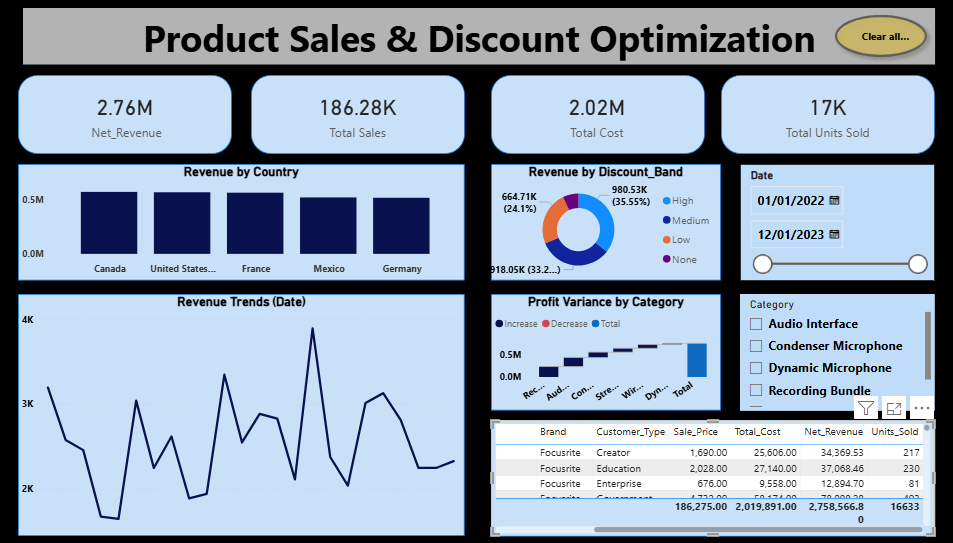

Layout of this report page (visuals, bound fields, positions):
{"tool":"powerbi","page":{"name":"Page 1","canvas":[1280,720],"ordinal":0},"visuals":[{"type":"shape","box":[33.3,105,280,103.3],"z":0},{"type":"shape","box":[338.3,105,280,103.3],"z":1000},{"type":"shape","box":[651.7,105,280,103.3],"z":2000},{"type":"shape","box":[953.3,105,280,103.3],"z":3000},{"type":"shape","box":[33.1,221.8,584.6,152.6],"z":4000},{"type":"shape","box":[33.1,391.7,584.6,316.8],"z":5000},{"type":"shape","box":[652.3,221.8,301,152.6],"z":6000},{"type":"shape","box":[652.3,555.8,581.8,152.6],"z":7000},{"type":"shape","box":[652.3,391.7,301,152.6],"z":8000},{"type":"textbox","box":[38.6,16.8,1194.3,73.9],"z":9000},{"type":"card","fields":{"Values":["Sum(Product.Net_Revenue)"]},"box":[60.5,109.2,225.1,94.1],"z":10000},{"type":"card","fields":{"Values":["Sum(Product.Sale_Price)"]},"box":[357.8,109.2,240.2,94.1],"z":11000},{"type":"card","fields":{"Values":["Sum(Product.Total_Cost)"]},"box":[675.3,109.2,230.1,94.1],"z":12000},{"type":"card","fields":{"Values":["Sum(Product.Units_Sold)"]},"box":[977.6,109.2,230.1,94.1],"z":13000},{"type":"columnChart","title":"Revenue by Country","fields":{"Y":["Sum(Product.Net_Revenue)"],"Category":["Product.Country"]},"box":[33.1,221.8,584.6,152.6],"z":14000},{"type":"lineChart","title":"Revenue Trends (Date)","fields":{"Category":["Product.Month","Product.Date.Variation.Date Hierarchy.Year","Product.Date.Variation.Date Hierarchy.Month","Product.Date.Variation.Date Hierarchy.Day"],"Y":["Median(Product.Net_Revenue)"]},"box":[33.1,391.7,584.6,316.8],"z":15000},{"type":"donutChart","fields":{"Category":["Product.Discount_Band"],"Y":["Sum(Product.Net_Revenue)"]},"box":[652.3,221.8,301,152.6],"z":16000},{"type":"tableEx","fields":{"Values":["Product.Country","Product.Category","Product.Brand","Product.Customer_Type","Sum(Product.Sale_Price)","Sum(Product.Total_Cost)","Sum(Product.Net_Revenue)","Sum(Product.Units_Sold)"]},"box":[652.3,555.8,580.3,152.6],"z":17000},{"type":"waterfallChart","title":"Profit Variance by Category","fields":{"Category":["Product.Category"],"Y":["Product.Total Profit"]},"box":[652.3,391.7,301,152.6],"z":18000},{"type":"slicer","fields":{"Values":["Product.Date"]},"box":[977.8,221.8,254.9,152.6],"z":19000},{"type":"slicer","fields":{"Values":["Product.Category"]},"box":[977.8,391.7,254.9,152.6],"z":20000},{"type":"actionButton","box":[1093.1,17,138.8,73.3],"z":21000}]}

Visuals, with their boxes in screenshot pixels (x1, y1, x2, y2), scaled from the page's 1280x720 canvas onto the 953x543 screenshot:
shape: 25,79,233,157
shape: 252,79,460,157
shape: 485,79,694,157
shape: 710,79,918,157
shape: 25,167,460,282
shape: 25,295,460,534
shape: 486,167,710,282
shape: 486,419,919,534
shape: 486,295,710,410
textbox: 29,13,918,68
card - Sum(Product.Net_Revenue): 45,82,213,153
card - Sum(Product.Sale_Price): 266,82,445,153
card - Sum(Product.Total_Cost): 503,82,674,153
card - Sum(Product.Units_Sold): 728,82,899,153
"Revenue by Country" columnChart: 25,167,460,282
"Revenue Trends (Date)" lineChart: 25,295,460,534
donutChart - Product.Discount_Band x Sum(Product.Net_Revenue): 486,167,710,282
tableEx - Product.Country x Product.Category: 486,419,918,534
"Profit Variance by Category" waterfallChart: 486,295,710,410
slicer - Product.Date: 728,167,918,282
slicer - Product.Category: 728,295,918,410
actionButton: 814,13,917,68
